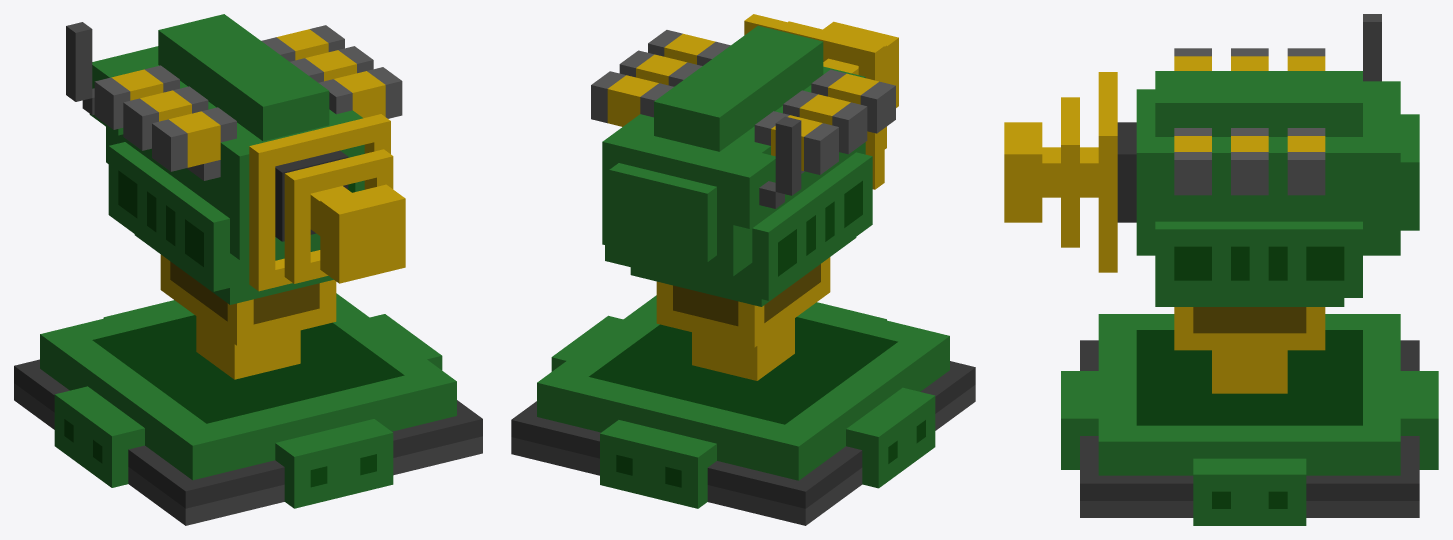
File: Turret(Tower_Defens)-4.glb
3 views of the same model, side by side, from view 1: azimuth 30°, elevation 25°; view 2: azimuth 150°, elevation 25°; view 3: azimuth 270°, elevation 25° (orthographic).
Size of the model in its own units: 2 by 2.2 by 2.3.
Materials: 1 (1 with a texture image).
